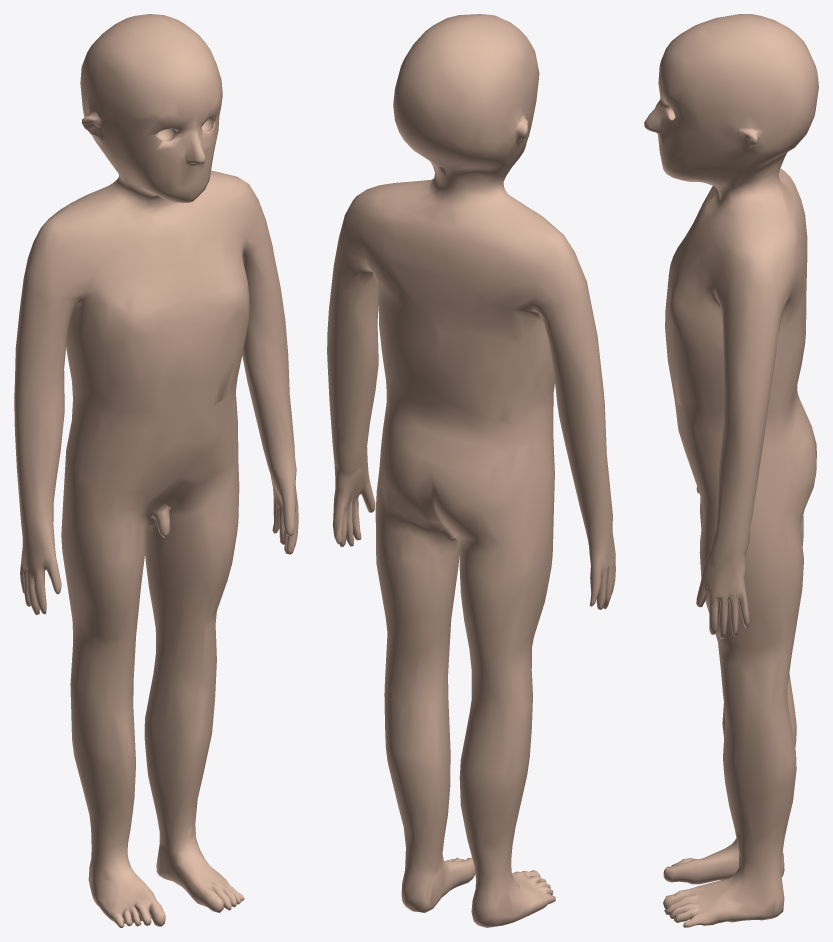
Rendered from pediatric_child_5y_male.surface.LOD2.glb.
3 views of the same model, side by side, from view 1: azimuth 30°, elevation 25°; view 2: azimuth 150°, elevation 25°; view 3: azimuth 270°, elevation 25° (orthographic).
Parts seen in each view (by area): view 1: PEDIATRIC.CHILD_5Y.MALE.SURFACE.SKIN; view 2: PEDIATRIC.CHILD_5Y.MALE.SURFACE.SKIN; view 3: PEDIATRIC.CHILD_5Y.MALE.SURFACE.SKIN.
Part boxes in pixels (x1,y1,x2,y2): PEDIATRIC.CHILD_5Y.MALE.SURFACE.SKIN: (14,14,298,927); PEDIATRIC.CHILD_5Y.MALE.SURFACE.SKIN: (327,14,615,927); PEDIATRIC.CHILD_5Y.MALE.SURFACE.SKIN: (644,14,818,927).
Bounding box in the file's own units: 0.3531 × 1.09 × 0.1968.
